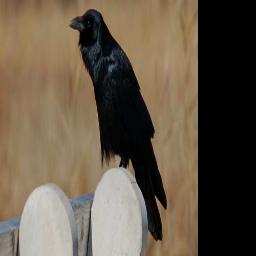Crow: (69, 8, 168, 244)
